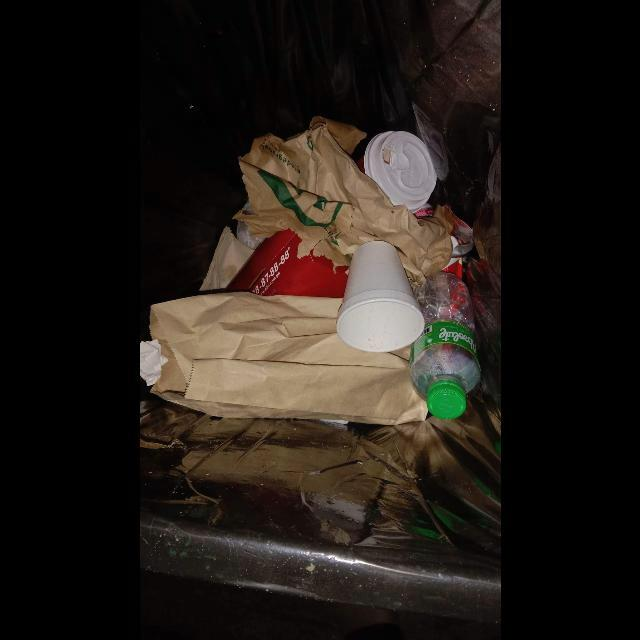paper: (231, 116, 452, 290), (149, 292, 429, 426)
plastic_bottle: (408, 272, 481, 421)
